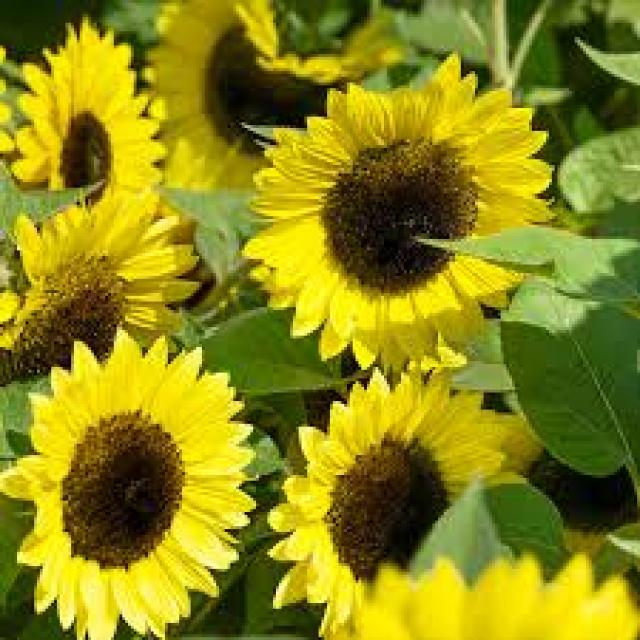sunflower: (230, 50, 563, 381), (1, 313, 259, 640), (257, 352, 531, 640), (137, 1, 407, 216), (0, 170, 205, 443), (10, 12, 174, 263), (333, 543, 640, 640), (116, 192, 244, 329), (221, 0, 417, 88)
